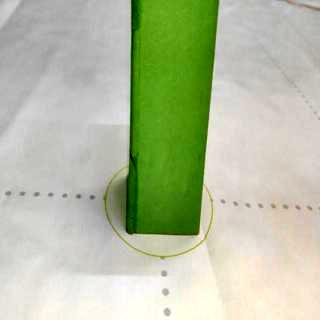greenbox: (128, 1, 207, 234)
